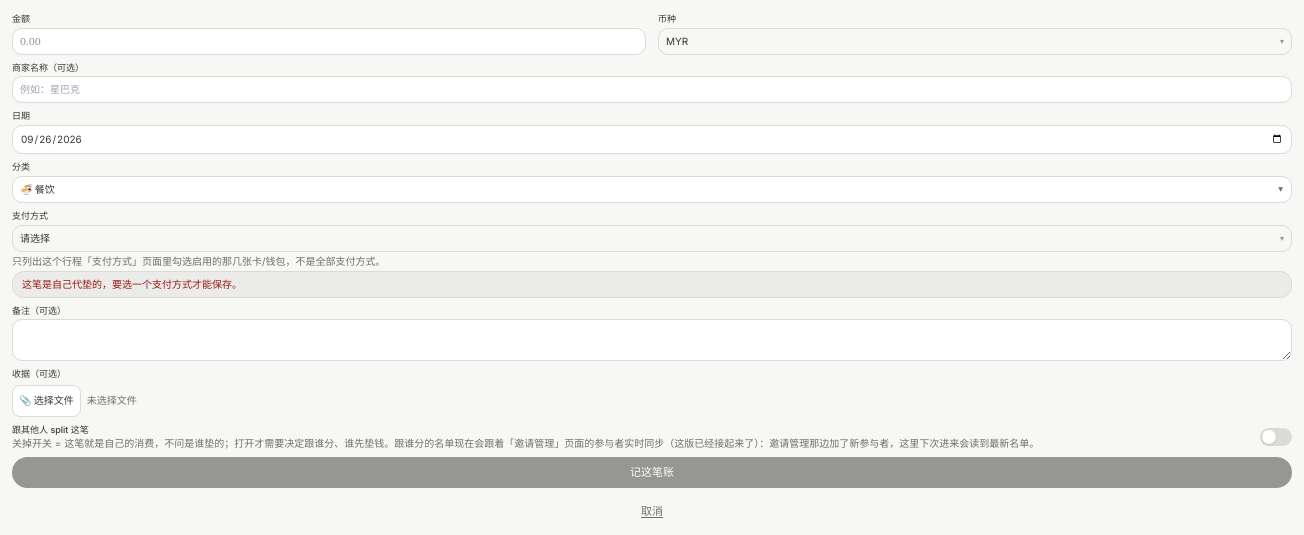
Test: ExpenseForm — 第七十二轮任务①：当地金额双向联动 + 精度铁律 › 支付方式占位文案是"请选择"，不是"不指定"
Click the button named "支付方式": coordinates (35, 238) top-left (12, 224), bottom-right (1292, 252)
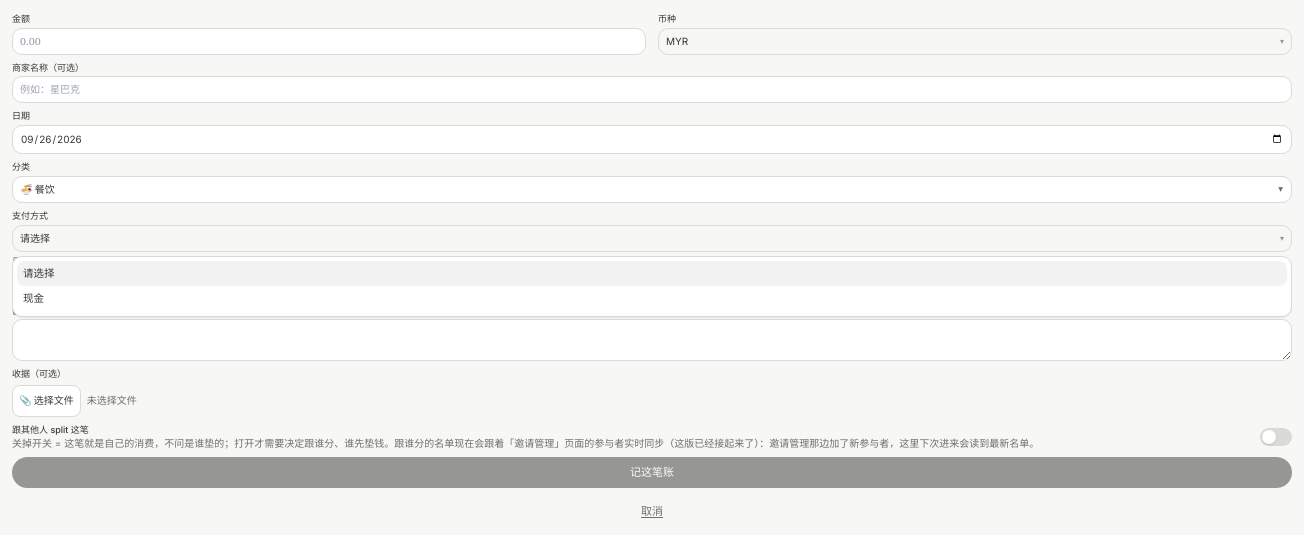
Expected: the option "请选择" is shown, top-left (17, 260), bottom-right (1287, 286)
